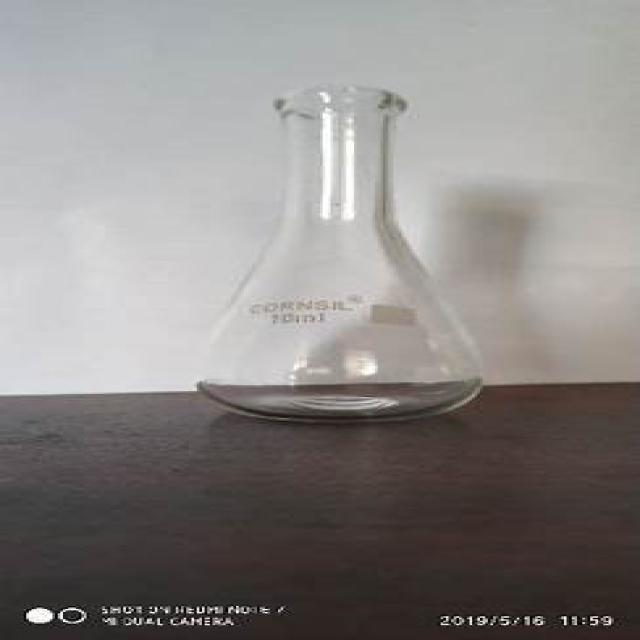Titrarion: (182, 73, 489, 419)
